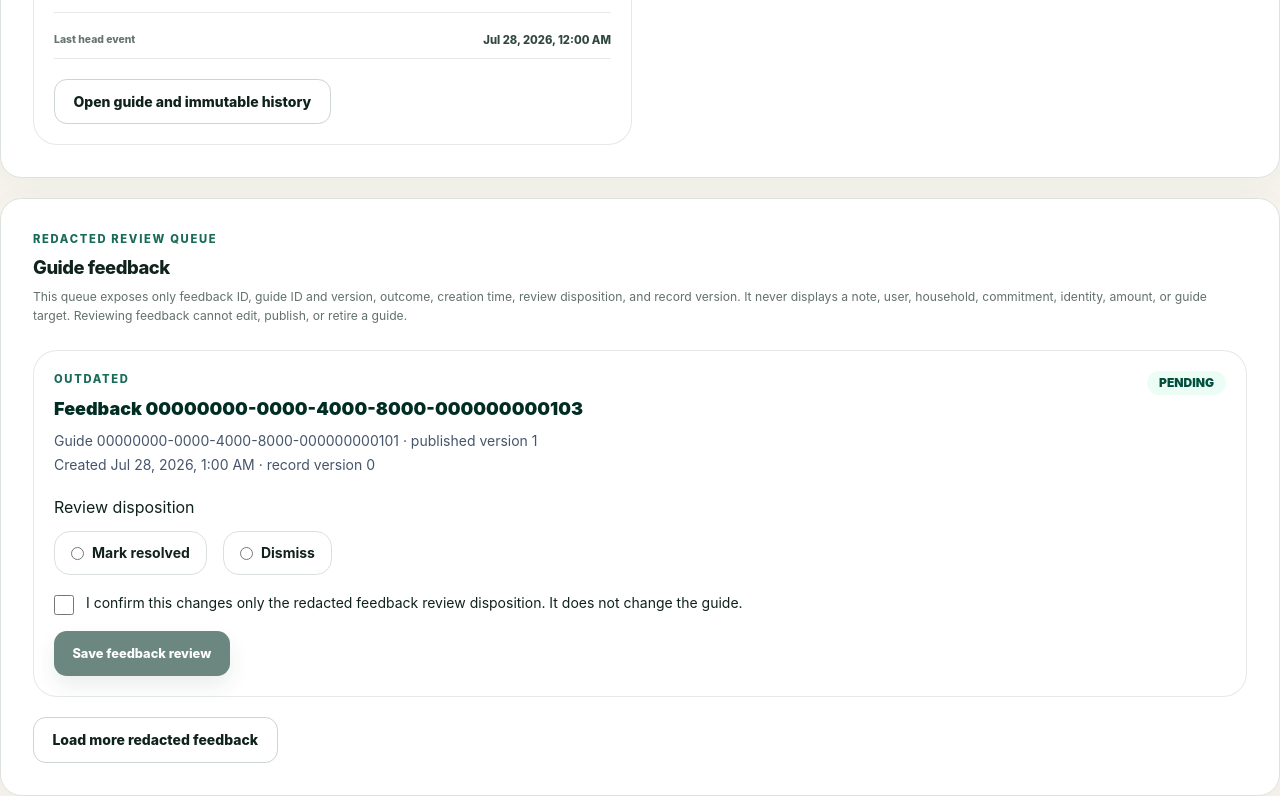
Scenario: AdminGuideCatalogScreen › keeps existing rows visible when loading another feedback page fails
(page scrolled)
Click the button "Load more redacted feedback": x=155, y=740 [33,717,278,762]
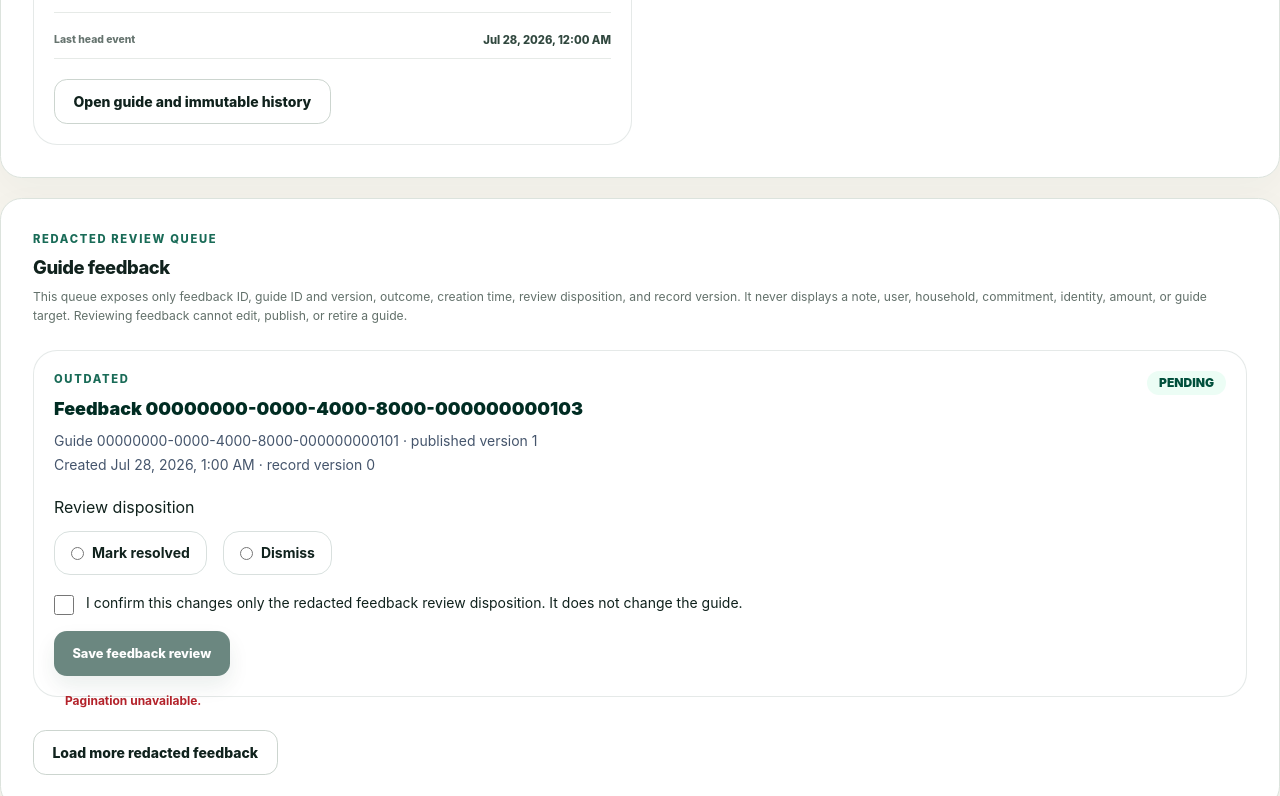
Check: the button "Load more redacted feedback" is enabled, box [33,730,278,775]
Check: the text "Pagination unavailable." is shown, box [65,692,201,708]
